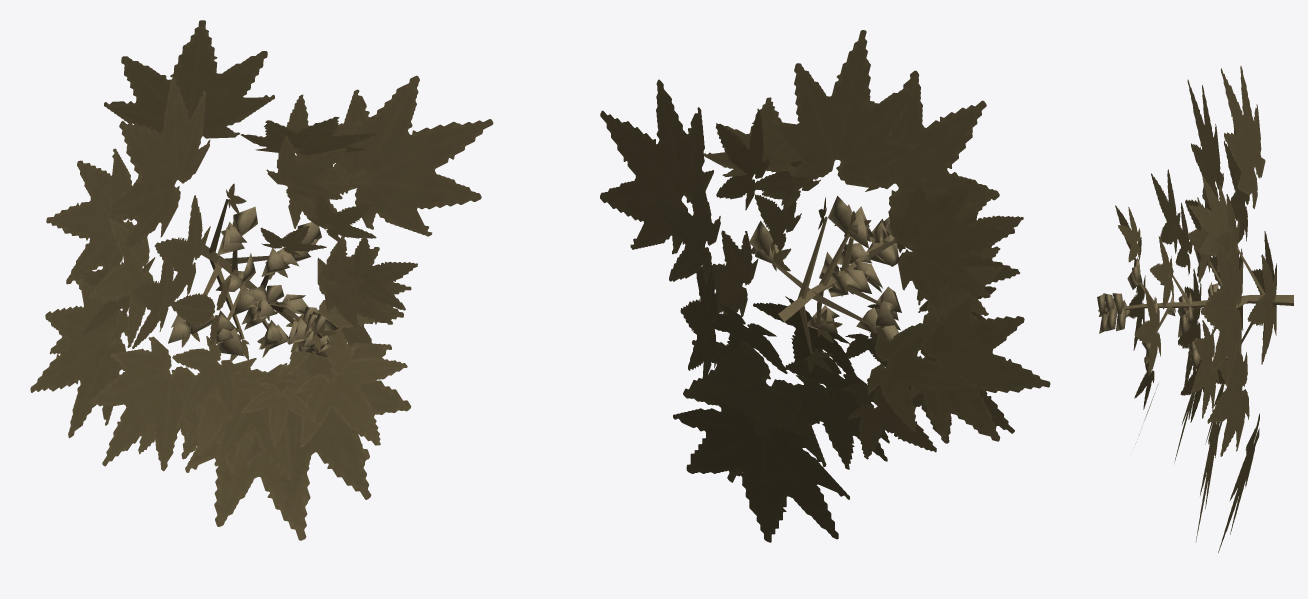
File: p_male_hybrid_flowering_c4_cards.obj
3 views of the same model, side by side, from view 1: azimuth 30°, elevation 25°; view 2: azimuth 150°, elevation 25°; view 3: azimuth 270°, elevation 25° (orthographic). The views are drawn at different scales.
Size of the model in its own units: 1.44 by 1.56 by 0.578.
Materials: 1 (1 with a texture image).
